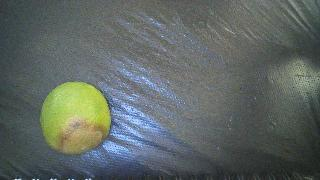DESECHO: (40, 82, 111, 154)
